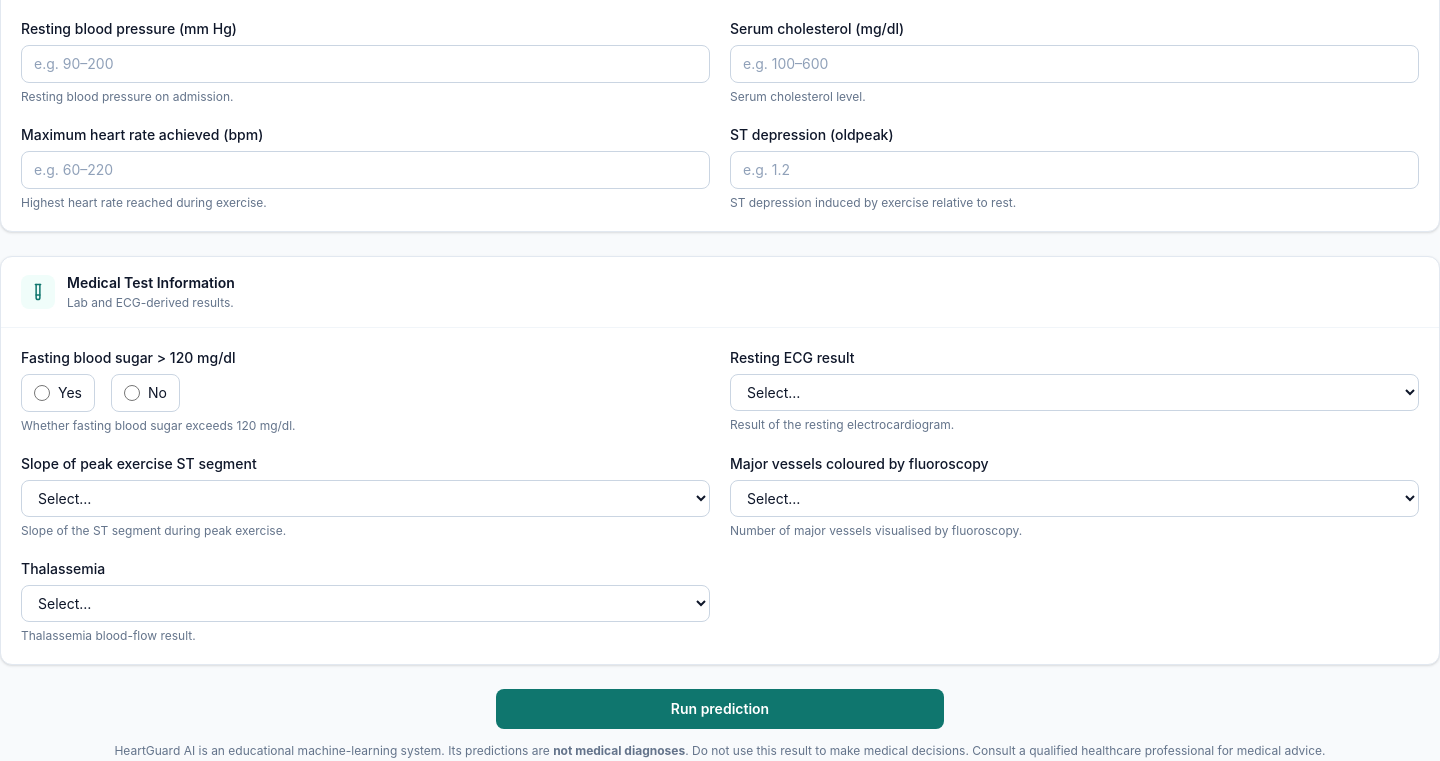
Test: Predict page › blocks submission when required fields are missing
(page scrolled)
Click the button "Run prediction" at (720, 709), box [496,689,944,729]
(page scrolled)
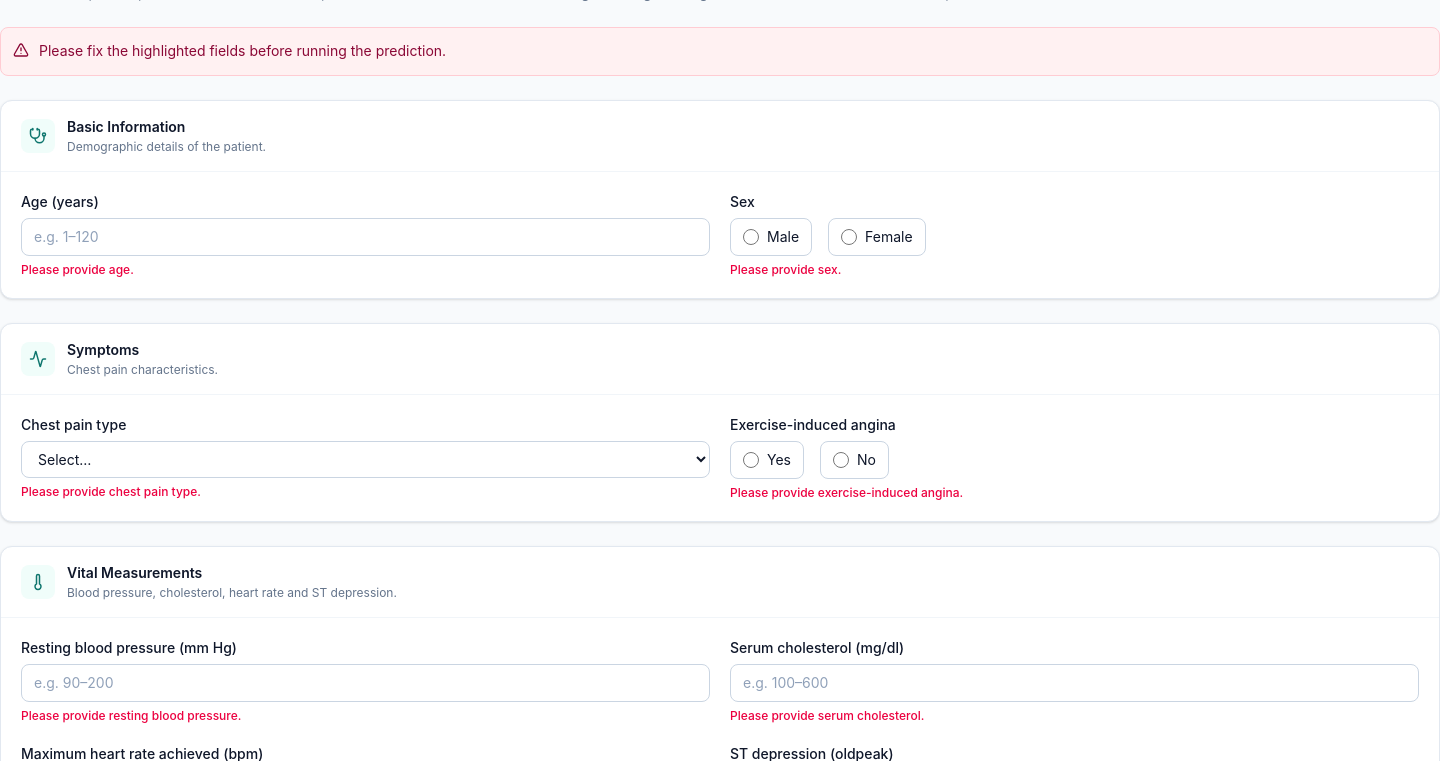
Check: the text "Please fix the highlighted fields" is shown, box [39,42,446,59]
